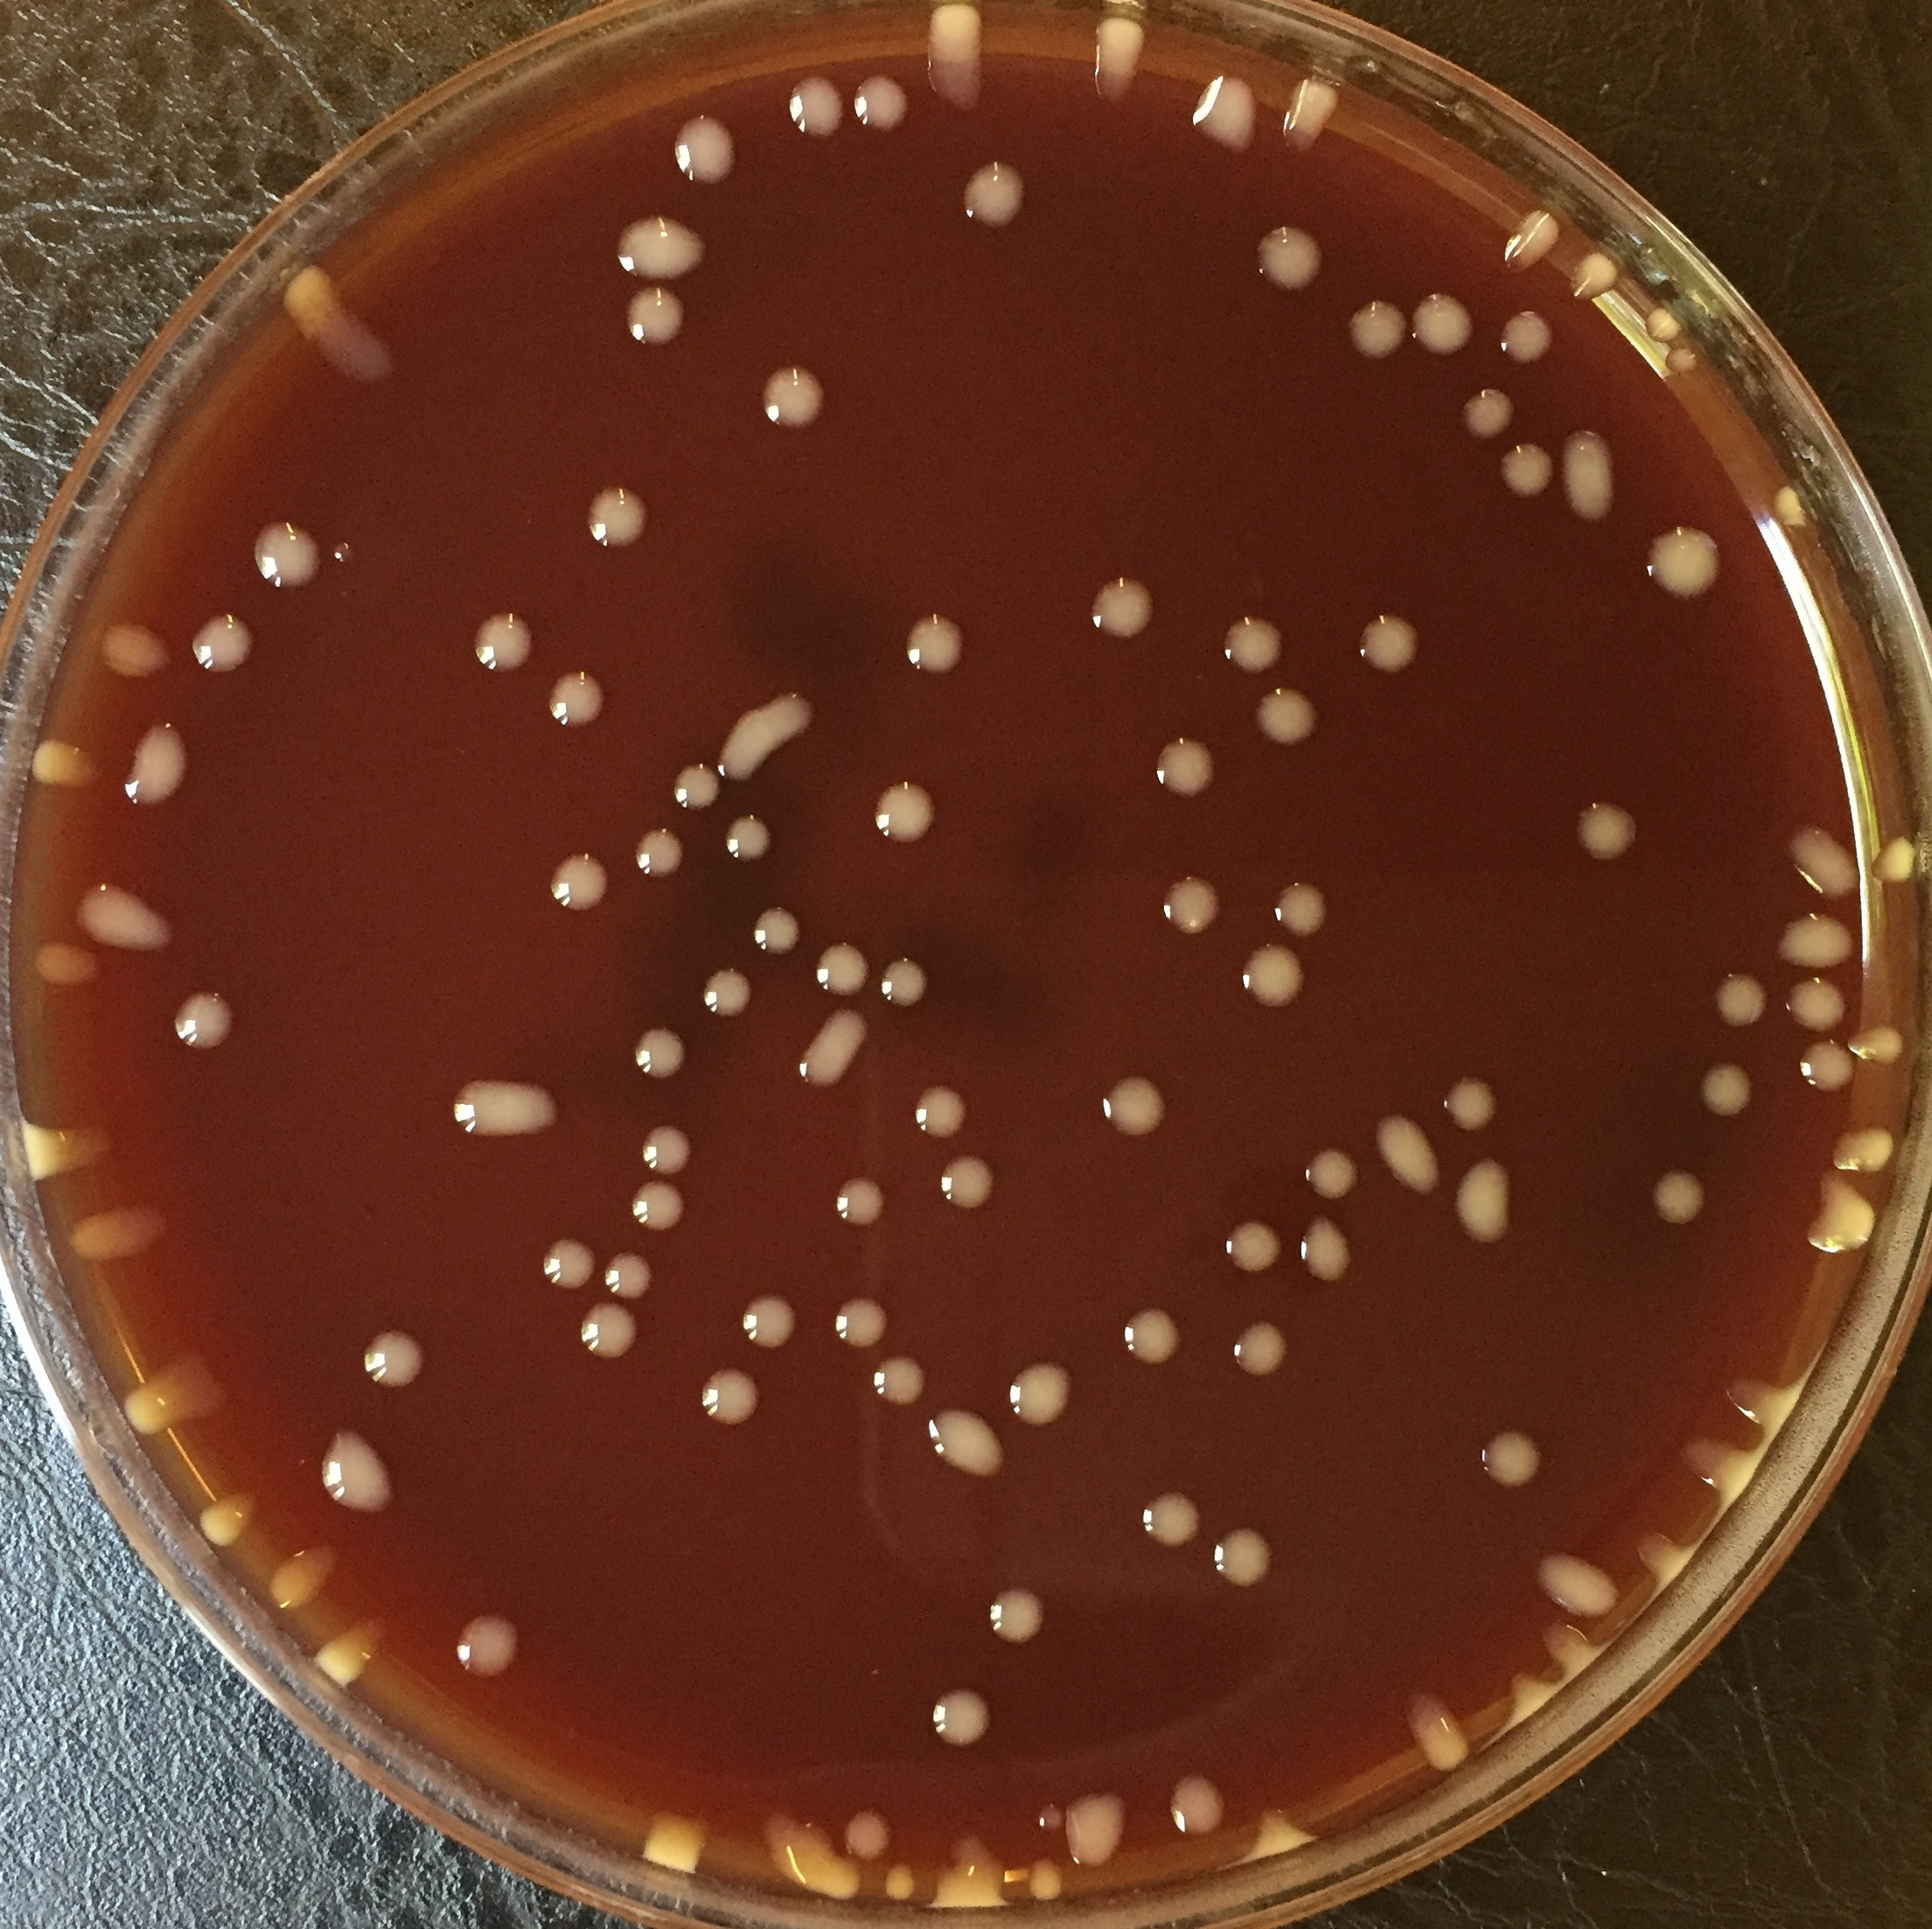sp19: (283, 265, 385, 373), (717, 685, 814, 784), (761, 1807, 862, 1899), (113, 1355, 223, 1434), (602, 210, 713, 288), (318, 1424, 403, 1521), (454, 1074, 570, 1143), (81, 871, 180, 950), (791, 1009, 879, 1092), (925, 1404, 1012, 1486), (1803, 1168, 1884, 1254), (12, 1108, 106, 1182), (1554, 429, 1626, 525), (71, 1196, 170, 1265), (1395, 1687, 1476, 1770), (927, 1835, 1014, 1913), (924, 0, 991, 99), (1370, 1111, 1448, 1196), (756, 360, 841, 438), (1678, 1431, 1764, 1507), (1724, 1367, 1812, 1441), (120, 724, 194, 813), (95, 618, 184, 691), (1252, 217, 1333, 293), (1063, 1784, 1137, 1867), (1536, 1547, 1621, 1620), (1641, 528, 1725, 601), (581, 480, 659, 556), (249, 519, 328, 594), (189, 1489, 279, 1555), (1785, 821, 1861, 897), (1005, 1360, 1086, 1431), (1448, 1154, 1517, 1237), (267, 1542, 350, 1611), (1090, 14, 1150, 106), (1194, 74, 1268, 148), (1778, 912, 1860, 979), (959, 159, 1031, 233), (784, 71, 857, 145), (1572, 798, 1648, 867), (897, 615, 975, 680), (1459, 374, 1538, 438), (1102, 1070, 1174, 1139), (450, 1611, 523, 1680), (171, 989, 244, 1058), (1651, 1164, 1718, 1238), (639, 1807, 719, 1869), (579, 1305, 659, 1367), (26, 938, 113, 995), (1226, 1318, 1294, 1388), (1162, 869, 1233, 938), (1238, 942, 1305, 1014), (620, 288, 694, 353), (362, 1323, 433, 1390), (978, 1581, 1053, 1645), (1249, 684, 1323, 747), (1476, 1424, 1547, 1489), (1489, 1662, 1559, 1728), (1344, 299, 1415, 364), (1353, 615, 1425, 678), (1828, 1122, 1909, 1178), (546, 850, 620, 912), (470, 608, 544, 669), (1243, 1807, 1326, 1862), (1538, 1615, 1607, 1680), (1409, 291, 1478, 357), (1166, 1766, 1229, 1837), (1708, 964, 1778, 1028), (1505, 207, 1563, 283), (313, 1623, 396, 1676), (698, 1364, 763, 1431), (936, 1152, 1003, 1217), (673, 113, 736, 182), (1084, 578, 1157, 638), (736, 1293, 802, 1358), (927, 1687, 1000, 1745), (906, 1081, 978, 1139), (546, 664, 609, 730), (1635, 1528, 1702, 1590), (192, 615, 261, 675), (1151, 735, 1215, 798), (34, 733, 101, 793), (876, 781, 936, 848), (849, 71, 917, 131), (1134, 1487, 1204, 1544), (1695, 1058, 1757, 1122), (1120, 1305, 1185, 1365), (1222, 615, 1287, 675), (1279, 83, 1339, 148), (864, 1351, 931, 1410), (1780, 975, 1851, 1030), (1215, 1524, 1275, 1588), (832, 1173, 890, 1238), (1494, 306, 1559, 364), (1296, 1214, 1353, 1281), (623, 1178, 691, 1233), (539, 1238, 602, 1295), (1438, 1074, 1501, 1131), (1270, 878, 1332, 934), (1491, 445, 1552, 502), (1224, 1221, 1287, 1275), (597, 1249, 659, 1304), (832, 1297, 890, 1353), (1302, 1145, 1362, 1199), (699, 964, 756, 1021), (816, 938, 872, 995), (668, 760, 724, 816), (1798, 1037, 1856, 1092), (1847, 1023, 1911, 1072), (1568, 251, 1625, 306), (638, 1122, 696, 1175), (841, 1809, 901, 1860), (629, 830, 691, 880), (636, 1025, 691, 1079), (749, 908, 805, 959), (872, 956, 929, 1007), (1768, 482, 1819, 539), (721, 814, 775, 866), (1023, 1851, 1072, 1904), (1872, 841, 1930, 885), (1658, 336, 1708, 387), (879, 1860, 918, 1904), (1641, 304, 1681, 343), (1035, 1797, 1067, 1837), (328, 539, 358, 569)
